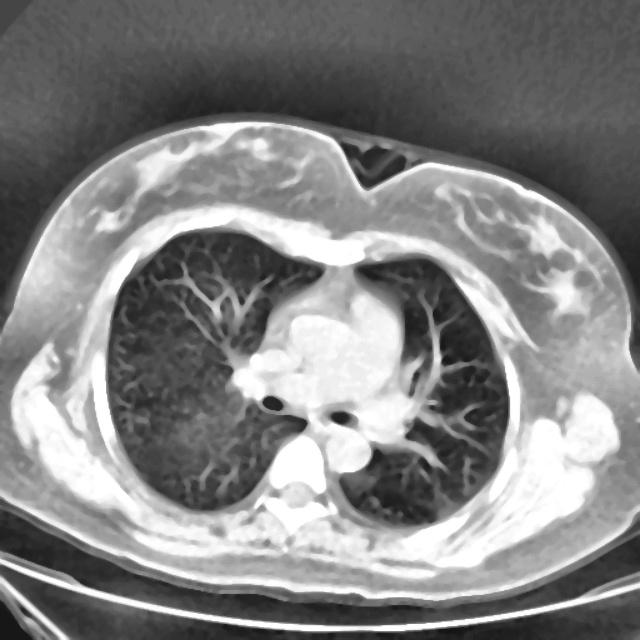covid: (1, 111, 638, 611)
